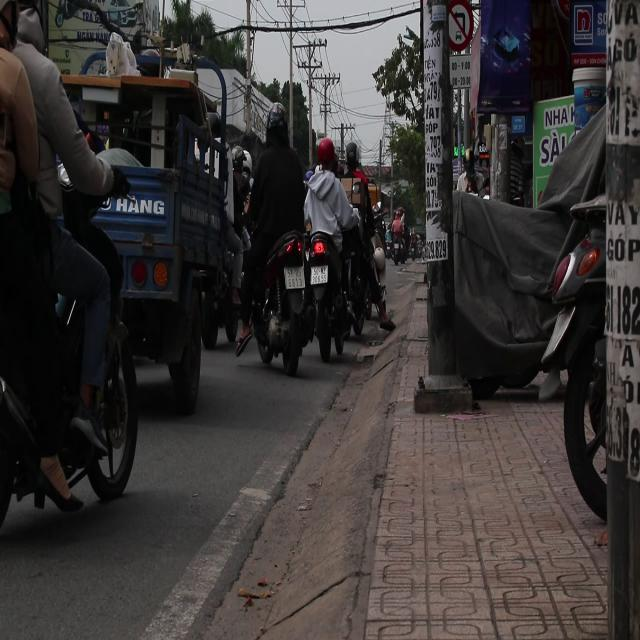motorbike: (2, 128, 144, 526), (254, 228, 342, 375), (304, 202, 352, 386), (340, 202, 382, 341)
